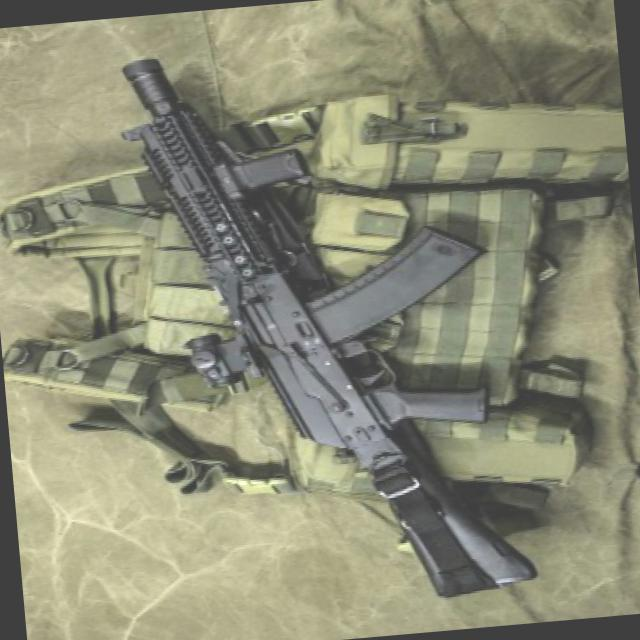long weapon: (110, 16, 546, 627)
